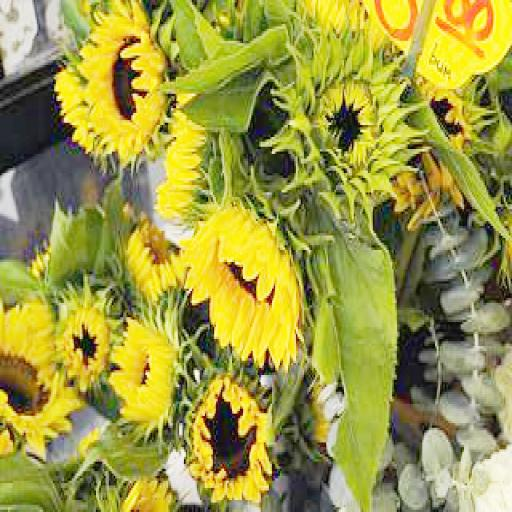sunflower: (186, 209, 302, 378), (82, 2, 168, 161), (190, 375, 276, 507), (109, 317, 176, 423), (60, 305, 110, 380)
